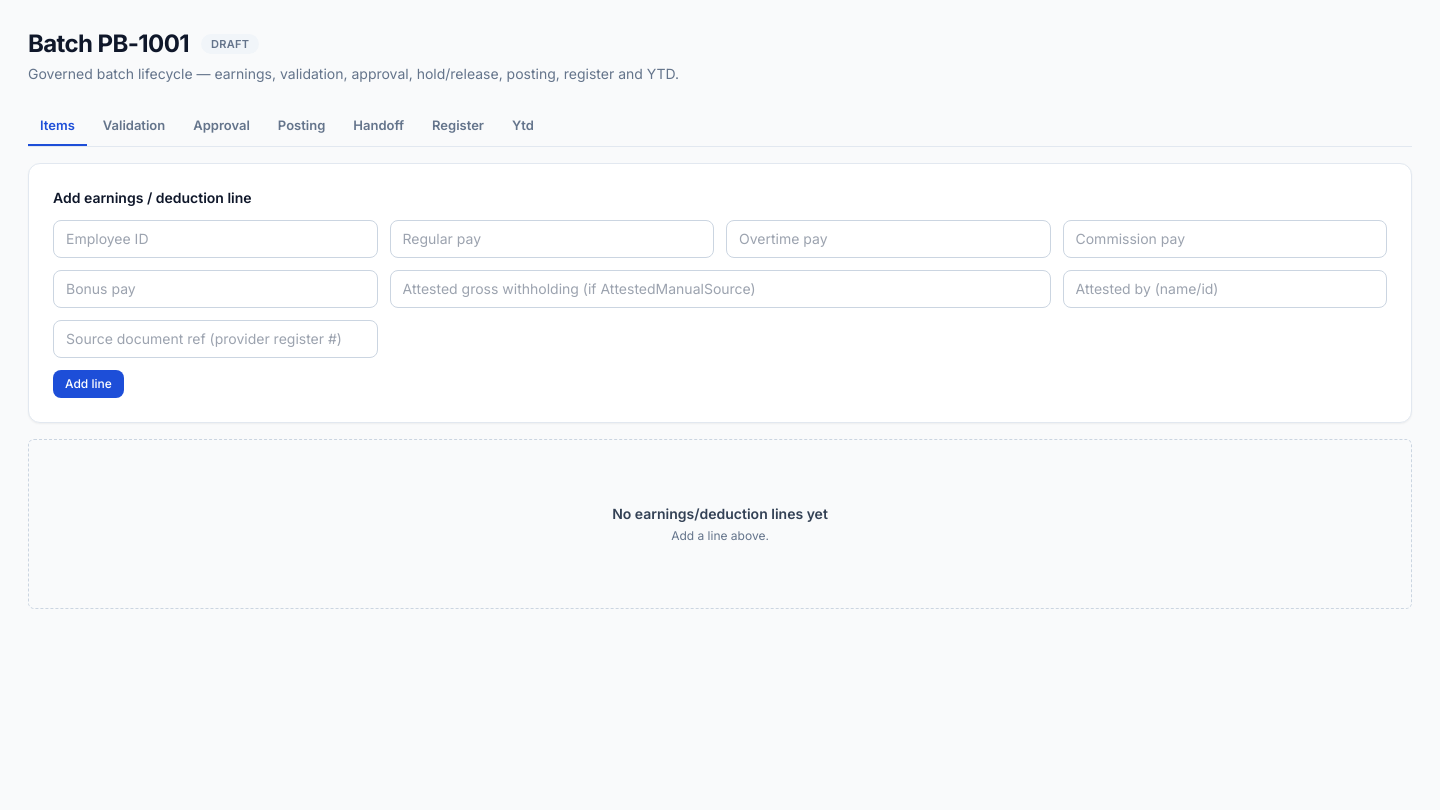
Test: PayrollBatchWorkbench — legal-entity reconciliation + payment-handoff status › shows the real NOT_CONFIGURED payment-handoff state when no handoff exists for this batch
Click the button with test id "payroll-batch-tab-handoff": (379, 127) [341,108,416,146]
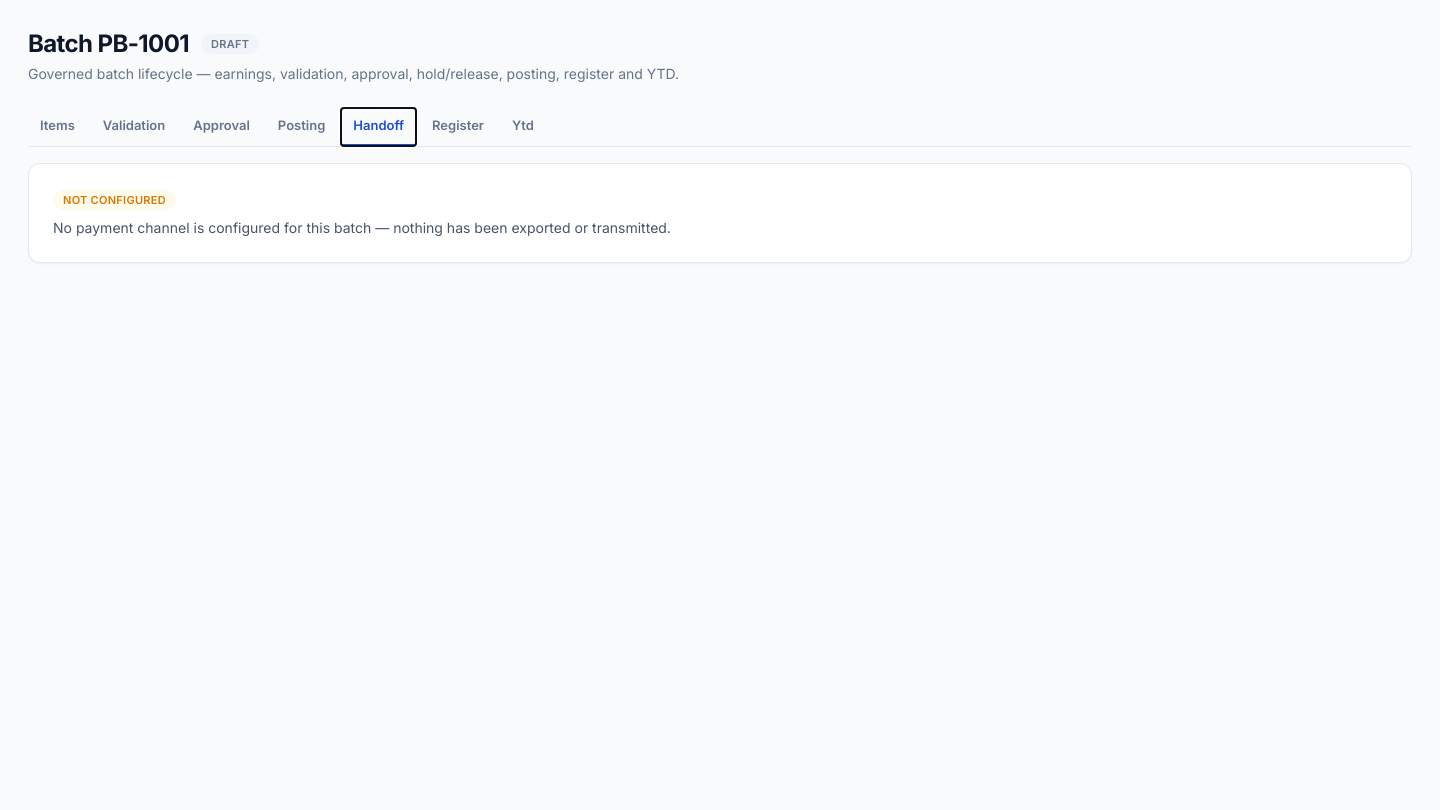
Result: the element with test id "payroll-handoff-not-configured" is shown at [28,162,1412,263]
